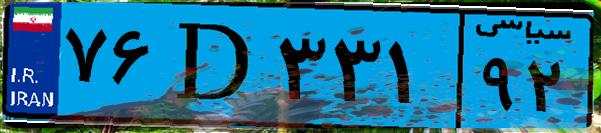1: (385, 28, 445, 110)
2: (525, 38, 570, 115)
3: (270, 28, 330, 110), (330, 28, 385, 110)
6: (110, 28, 158, 98)
7: (57, 26, 110, 100)
9: (475, 38, 525, 113)
D: (158, 12, 270, 120)
